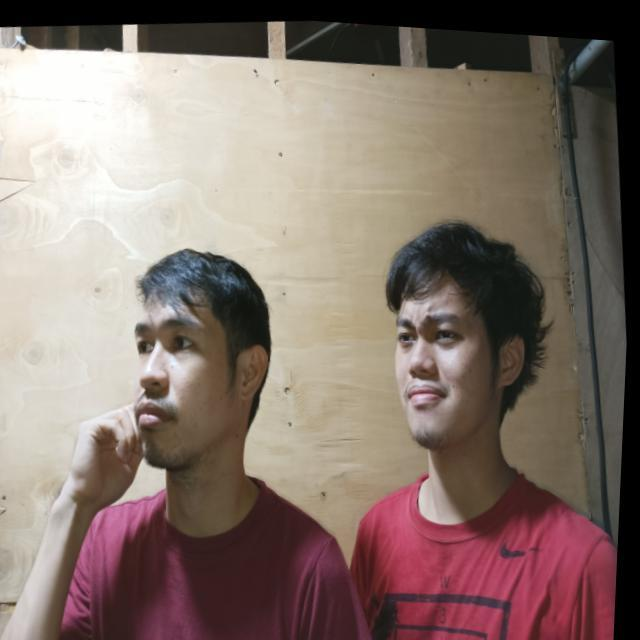Nonhelmet: (381, 218, 553, 450), (127, 245, 274, 471)
